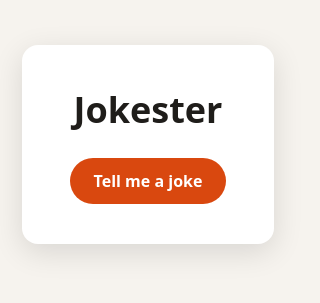
Test: shows a joke after clicking
Click the button "Tell me a joke" at (148, 180), box [70, 158, 226, 204]
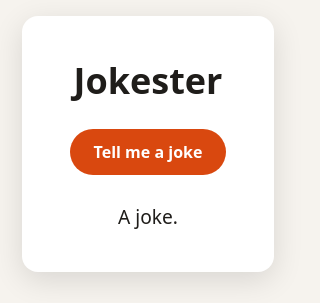
Expected: the text "A joke." is shown, [118, 203, 178, 230]
